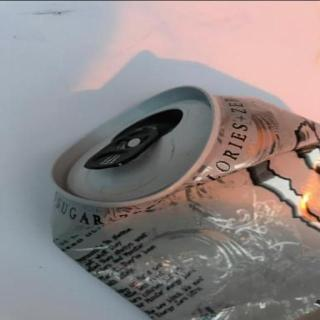Anorganik: (52, 83, 315, 320)
